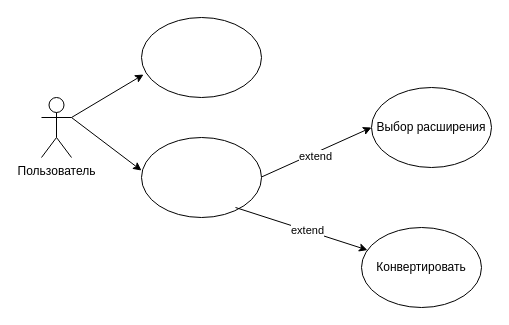
Some shapes in this 509 by 325 pixel diagram are drawn without their labels. The shapes that lost their labels are listed below. From the top down, each one's centre as x and y in pixels, then its label:
At (201,57): "Загрузка изображения".
At (201,177): "Изменить расширение".
